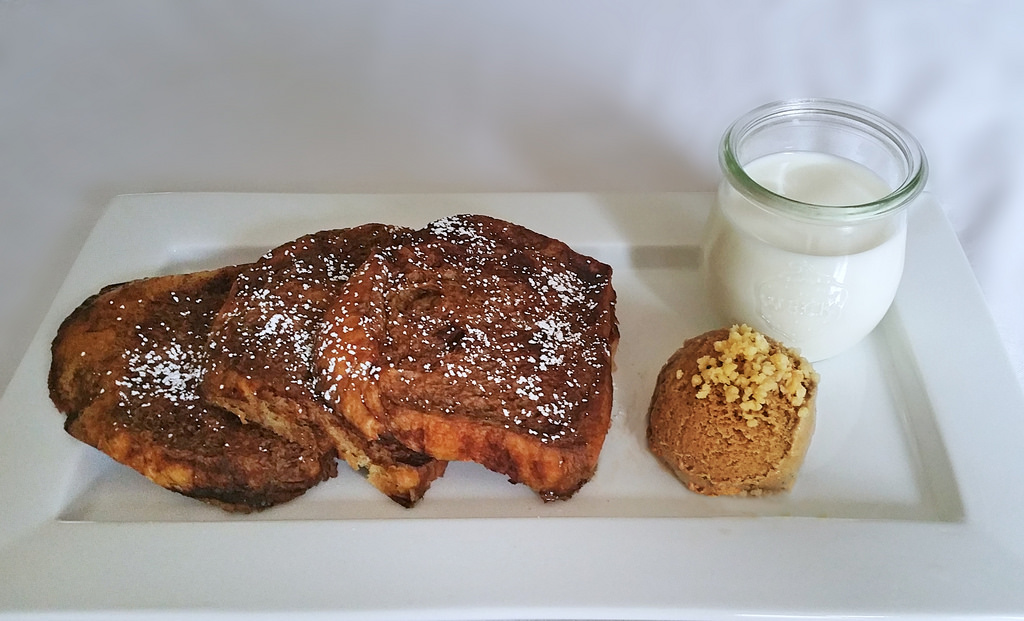glass of milk: (717, 110, 924, 351)
slice of bread: (99, 297, 614, 458)
